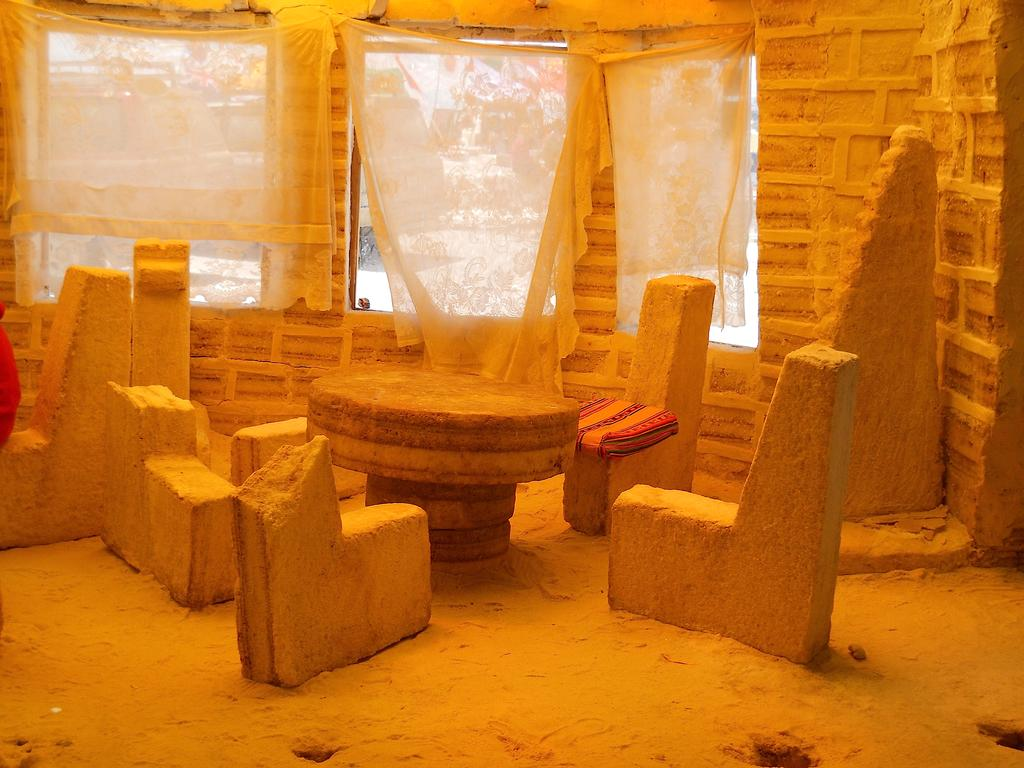Chair: (607, 341, 858, 662), (227, 431, 431, 684), (558, 273, 712, 537), (0, 264, 133, 552)
